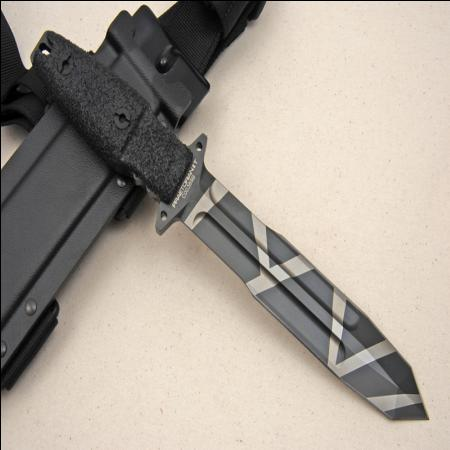long weapon: (148, 127, 434, 432)
